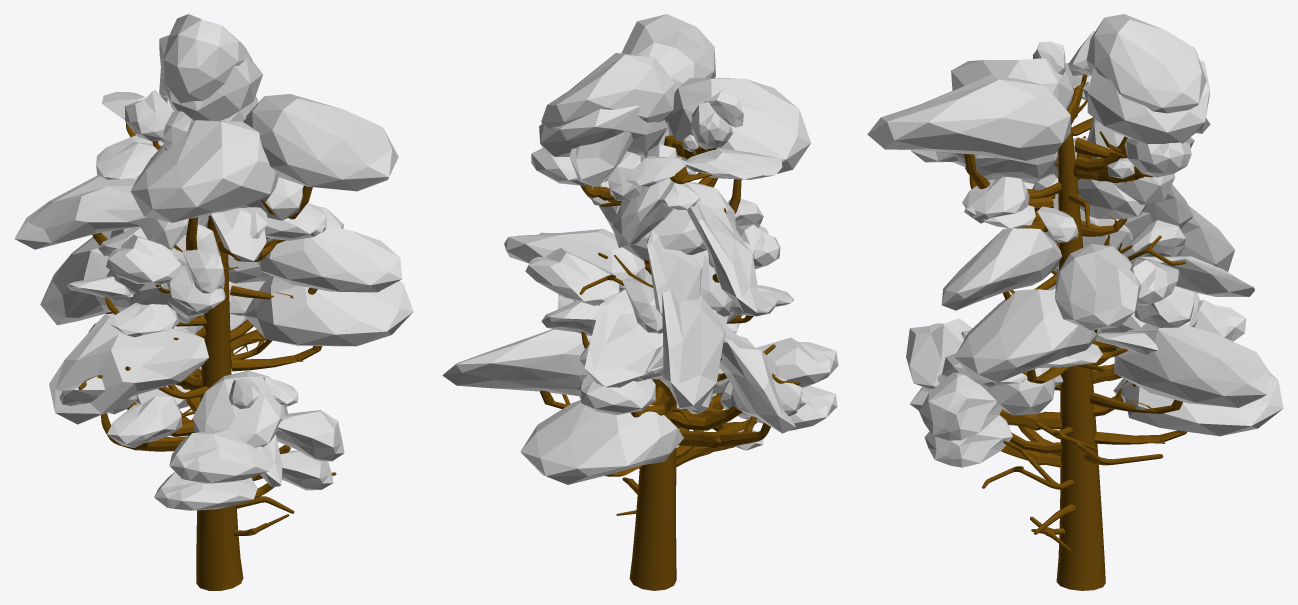
Rendered from tree 3.fbx.
3 views of the same model, side by side, from view 1: azimuth 30°, elevation 25°; view 2: azimuth 150°, elevation 25°; view 3: azimuth 270°, elevation 25° (orthographic). The views are drawn at different scales.
Parts seen in each view (by area): view 1: Tree set 1.026, Tree set 1.111; view 2: Tree set 1.026, Tree set 1.111; view 3: Tree set 1.026, Tree set 1.111.
Boxes of the visible parts, x1,y1,x2,y2 form: Tree set 1.026: (14, 14, 413, 510); Tree set 1.111: (78, 119, 336, 590); Tree set 1.026: (442, 14, 838, 484); Tree set 1.111: (540, 135, 799, 590); Tree set 1.026: (867, 14, 1283, 467); Tree set 1.111: (964, 74, 1186, 590).
Size of the model in its own units: 402 by 690 by 459.
